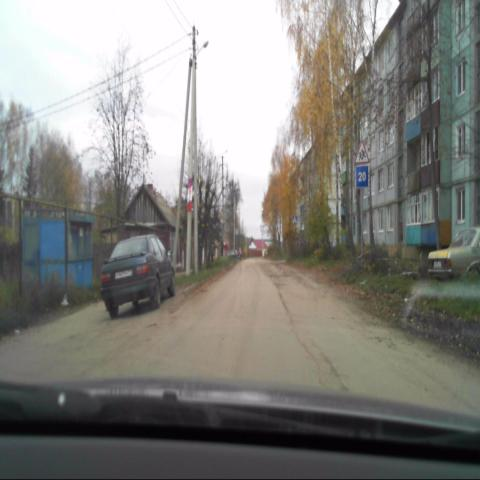1_23: (354, 140, 370, 162)
6_2: (355, 165, 368, 186)
